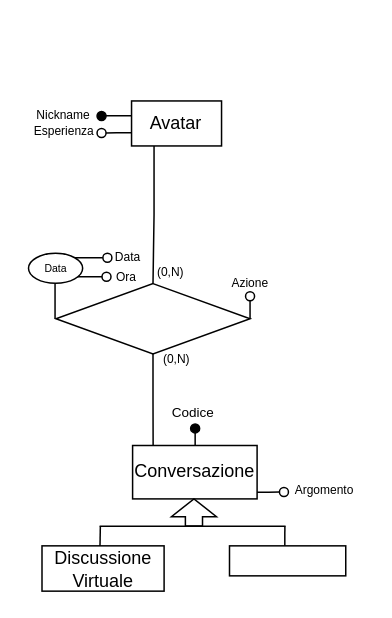
Some shapes in this 392 by 618 pixel diagram are drawn without their labels. The shapes that lost their labels are listed below. From the top down, each one's centre as x and y in pixels, then its label:
At pixel 152 318: "InterazioneAvatar".
At pixel 287 560: "NuovaTeoria".
